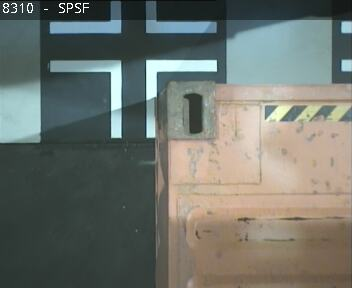groundmarker_1: (50, 59, 217, 138), (49, 1, 216, 33)
